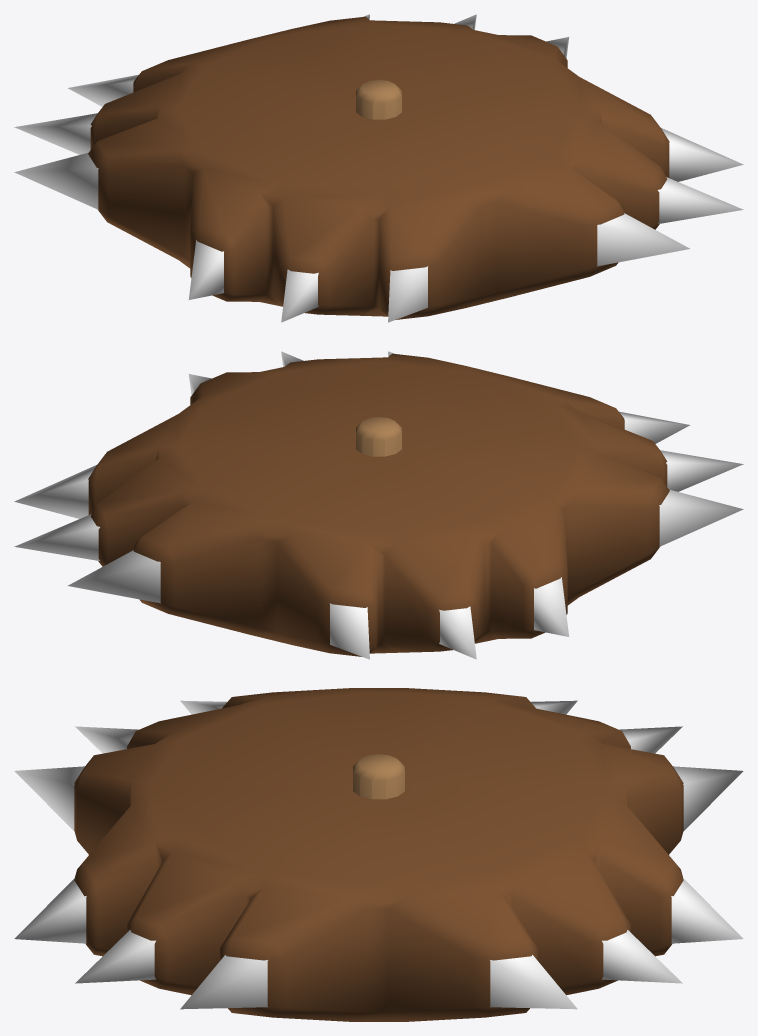
File: weapon.004.glb
3 renders of one model, top to bottom at view 1: azimuth 30°, elevation 25°; view 2: azimuth 150°, elevation 25°; view 3: azimuth 270°, elevation 25°, orthographic. The views are drawn at different scales.
Visible parts, largest first — view 1: weapon.004; view 2: weapon.004; view 3: weapon.004.
Part boxes in pixels (bbox=[...]): weapon.004: bbox=[14, 14, 743, 322]; weapon.004: bbox=[14, 351, 743, 659]; weapon.004: bbox=[14, 688, 743, 1021].
Size of the model in its own units: 4.81 by 1.34 by 4.81.
